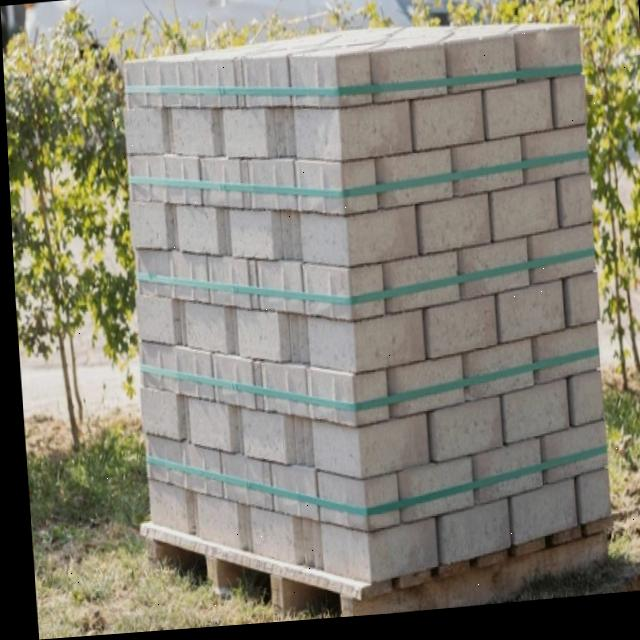bricks: (125, 24, 609, 580)
